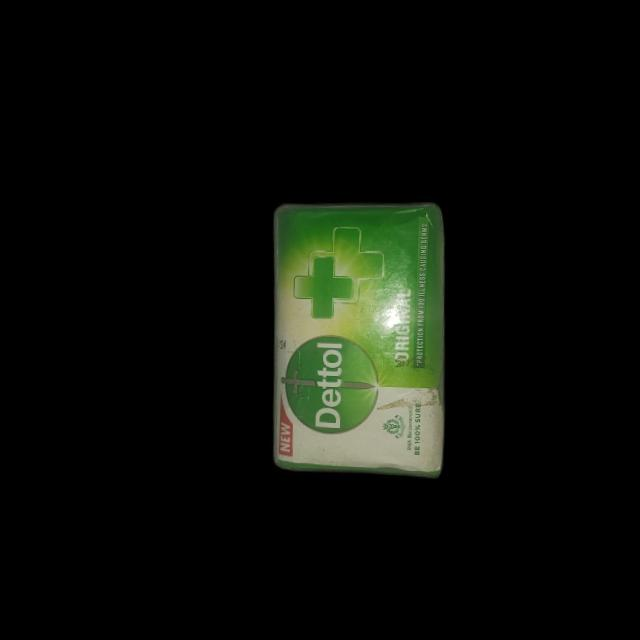Dettol Bathing Soap Bar - Original 125g: (251, 191, 466, 484)
